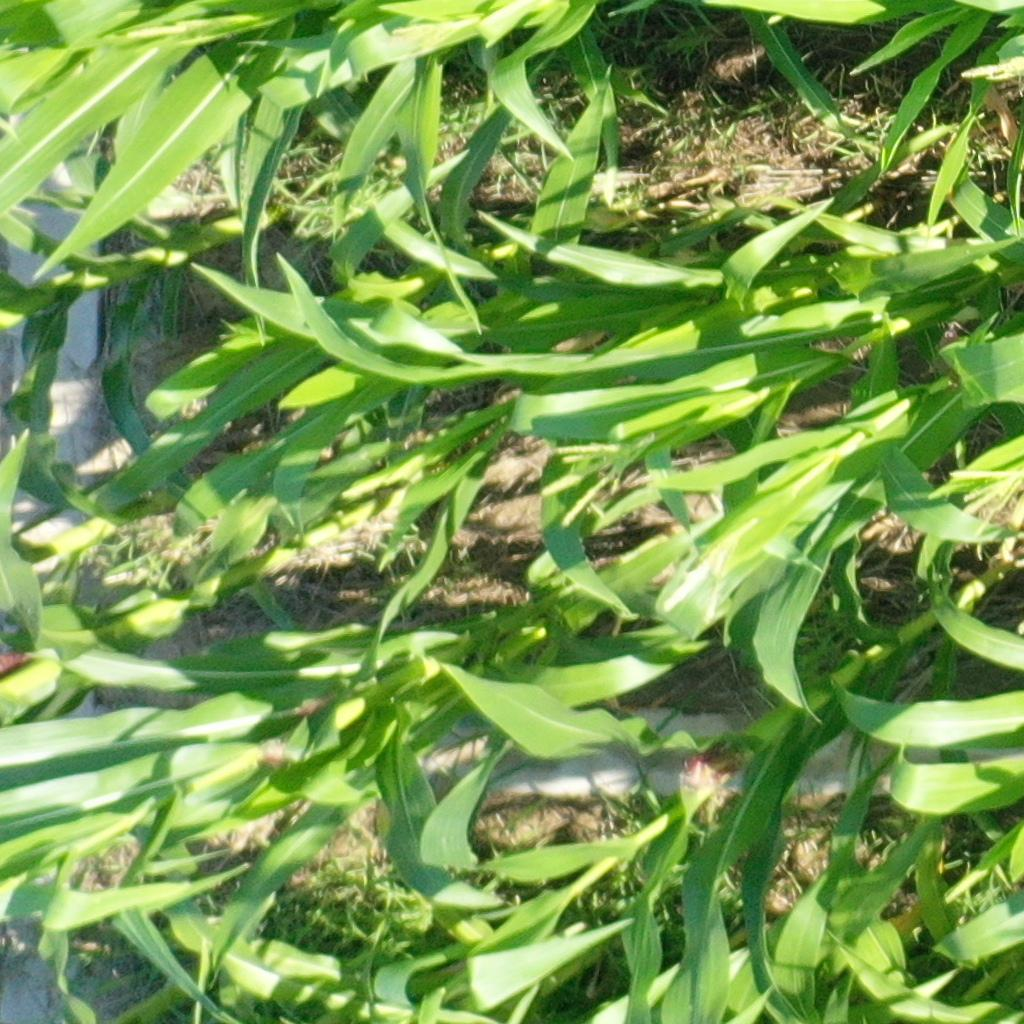Tassel: (538, 433, 658, 526), (657, 514, 741, 626), (934, 457, 1023, 541), (388, 11, 485, 63), (961, 51, 1024, 87)
